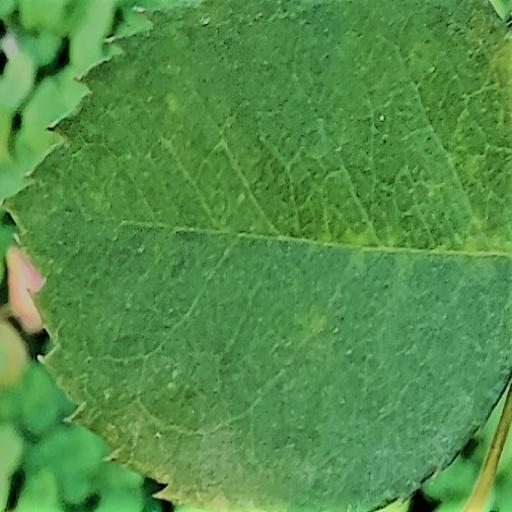healthy_leaf: (8, 0, 511, 511)
